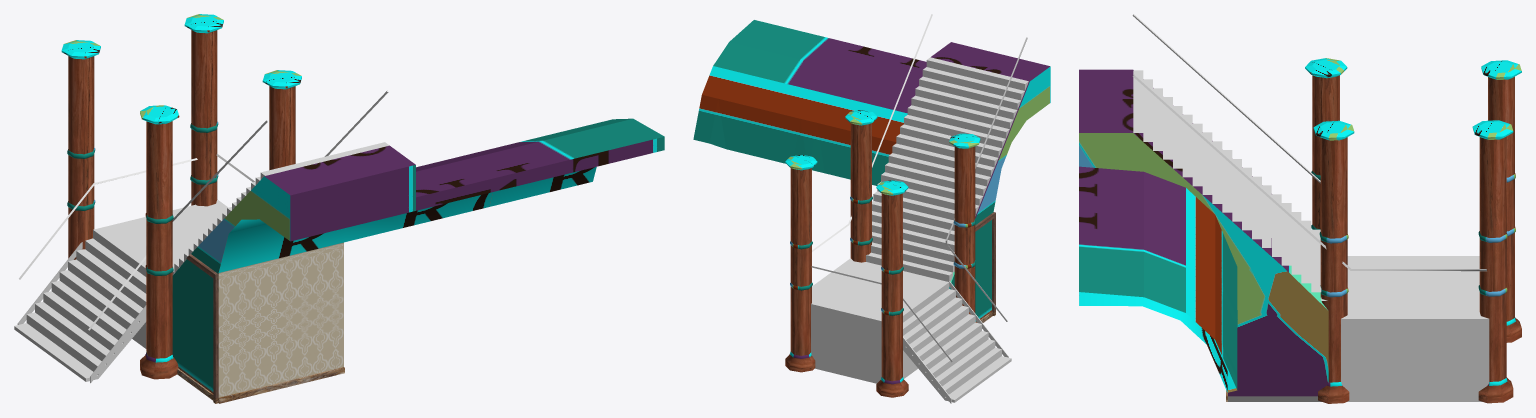
Rendered from staircase_quickFix.FBX.
The picture shows the model from 3 angles, left to right: view 1: azimuth 30°, elevation 25°; view 2: azimuth 150°, elevation 25°; view 3: azimuth 270°, elevation 25°; orthographic projection. The views are drawn at different scales.
Visible parts, largest first — view 1: hallway_cutout, mesh, column_medium_005, column_medium_006, column_medium_007, column_medium_008; view 2: mesh, hallway_cutout, column_medium_006, column_medium_007, column_medium_005, column_medium_008; view 3: hallway_cutout, mesh, column_medium_007, column_medium_008, column_medium_006, column_medium_005.
Part boxes in pixels (x1,y1,x2,y2): hallway_cutout: [172, 118, 664, 403]; mesh: [14, 90, 389, 383]; column_medium_005: [140, 105, 179, 379]; column_medium_006: [61, 40, 100, 259]; column_medium_007: [184, 14, 223, 206]; column_medium_008: [262, 70, 301, 170]; mesh: [811, 14, 1028, 403]; hallway_cutout: [693, 20, 1050, 322]; column_medium_006: [876, 180, 908, 397]; column_medium_007: [785, 154, 817, 372]; column_medium_005: [949, 133, 980, 314]; column_medium_008: [845, 110, 877, 262]; hallway_cutout: [1079, 69, 1328, 401]; mesh: [1132, 14, 1489, 401]; column_medium_007: [1472, 120, 1513, 403]; column_medium_008: [1313, 120, 1354, 403]; column_medium_006: [1481, 60, 1521, 342]; column_medium_005: [1305, 58, 1347, 229].
Size of what is drawn, in the model's own units: 429 by 352 by 288.
3 materials, 2 textured.
